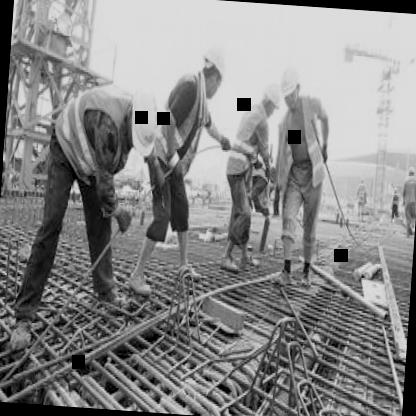helmet: (127, 83, 166, 164), (197, 32, 231, 104), (273, 52, 307, 115), (261, 80, 285, 127)
